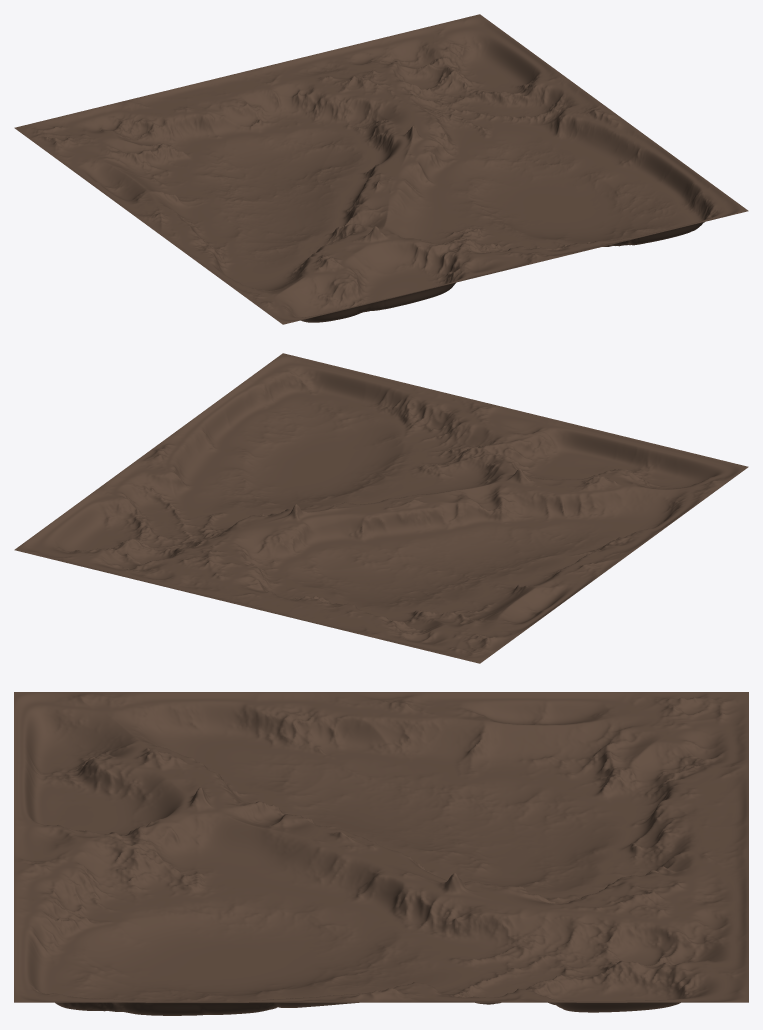
The model's file is Landscape 5km 10m strata.glb.
3 renders of one model, top to bottom at view 1: azimuth 30°, elevation 25°; view 2: azimuth 150°, elevation 25°; view 3: azimuth 270°, elevation 25°, orthographic. The views are drawn at different scales.
Visible parts, largest first — view 1: Cube; view 2: Cube; view 3: Cube.
Part boxes in pixels (x1,y1,x2,y2): Cube: [14, 14, 748, 324]; Cube: [14, 353, 748, 663]; Cube: [14, 692, 748, 1015].
Bounding box in the file's own units: 5000 × 375 × 5000.
